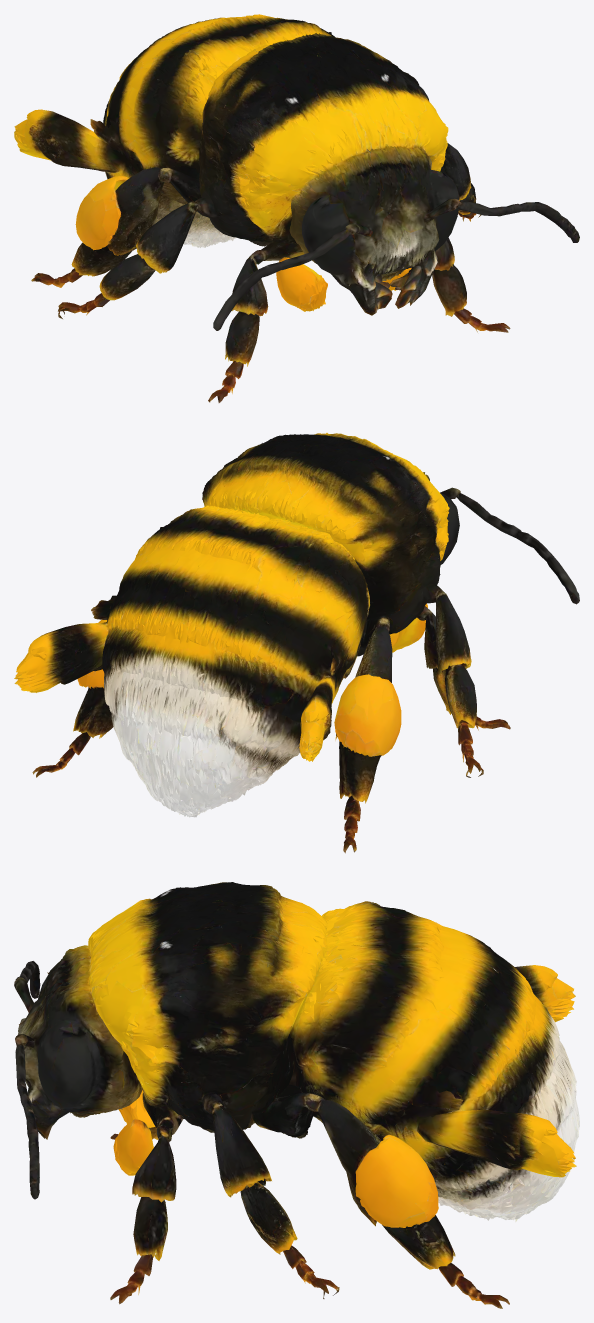
File: bee.glb
The picture shows the model from 3 angles, top to bottom: view 1: azimuth 30°, elevation 25°; view 2: azimuth 150°, elevation 25°; view 3: azimuth 270°, elevation 25°; orthographic projection. The views are drawn at different scales.
Parts seen in each view (by area): view 1: Mesh_0; view 2: Mesh_0; view 3: Mesh_0.
Boxes of the visible parts, box(x1,y1,x2,y2) form: Mesh_0: box(14, 14, 579, 402); Mesh_0: box(14, 433, 579, 853); Mesh_0: box(14, 882, 579, 1308).
Size of the model in its own units: 1.87 by 1.19 by 1.88.
1 material, 1 textured.
